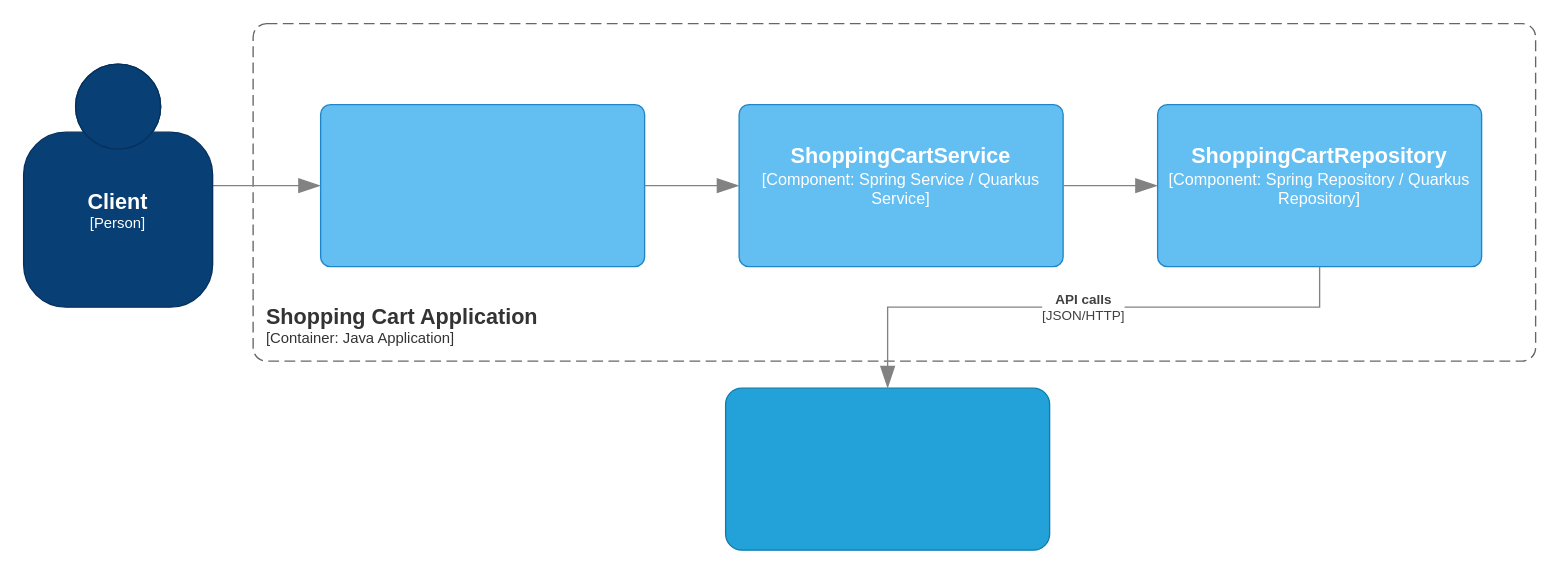
Some shapes in this 1559 by 574 pixel diagram are drawn without their labels. Each missing label, with the centre of its shape:
"LocalStack [Container: DynamoDB]" belongs at (x=887, y=468).
"ShoppingCartController [Component: Spring Controller / Quarkus Resource]" belongs at (x=482, y=185).
